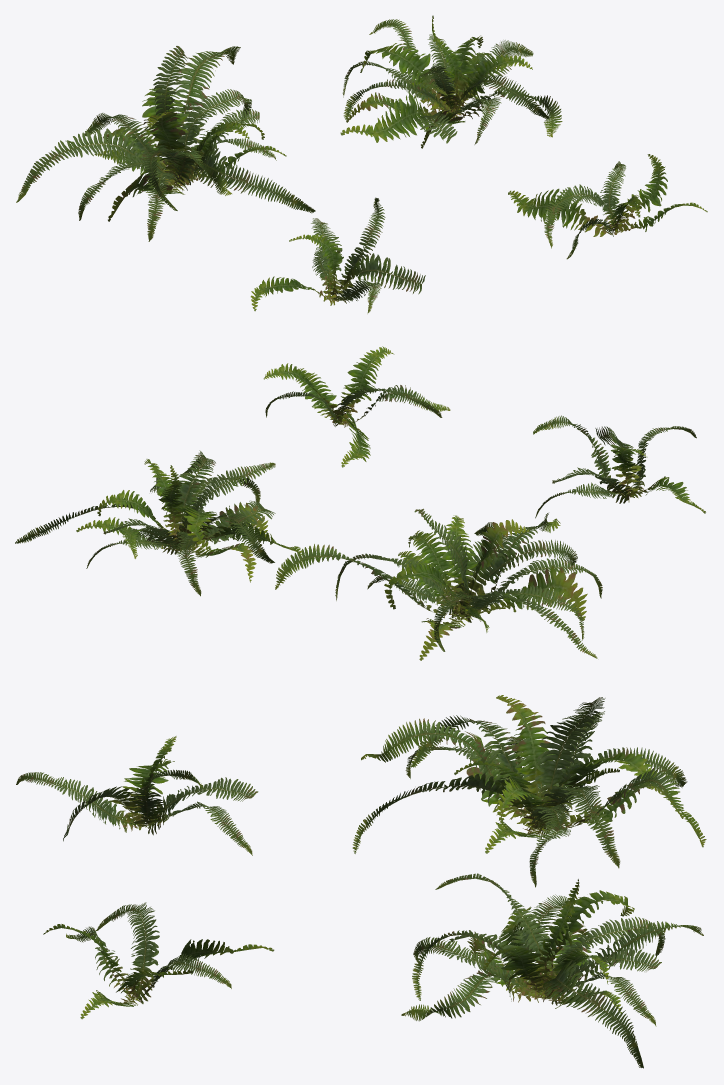
File: ph_fern_02_lod0.glb
3 views of the same model, one above another, from view 1: azimuth 30°, elevation 25°; view 2: azimuth 150°, elevation 25°; view 3: azimuth 270°, elevation 25° (orthographic). The views are drawn at different scales.
Visible parts, largest first — view 1: fern_02_b, fern_02_c, fern_02_a, fern_02_d; view 2: fern_02_b, fern_02_c, fern_02_d, fern_02_a; view 3: fern_02_b, fern_02_c, fern_02_a, fern_02_d.
Part boxes in pixels (x1,y1,x2,y2): fern_02_b: (16, 46, 315, 241); fern_02_c: (340, 15, 562, 148); fern_02_a: (250, 197, 425, 313); fern_02_d: (508, 154, 707, 259); fern_02_b: (275, 508, 602, 660); fern_02_c: (15, 450, 302, 596); fern_02_d: (263, 346, 450, 467); fern_02_a: (533, 415, 705, 518); fern_02_b: (352, 695, 706, 887); fern_02_c: (401, 873, 703, 1068); fern_02_a: (16, 736, 258, 855); fern_02_d: (43, 902, 274, 1019).
Bounding box in the file's own units: 1.97 × 0.4277 × 1.72.
Materials: 1 (1 with a texture image).
